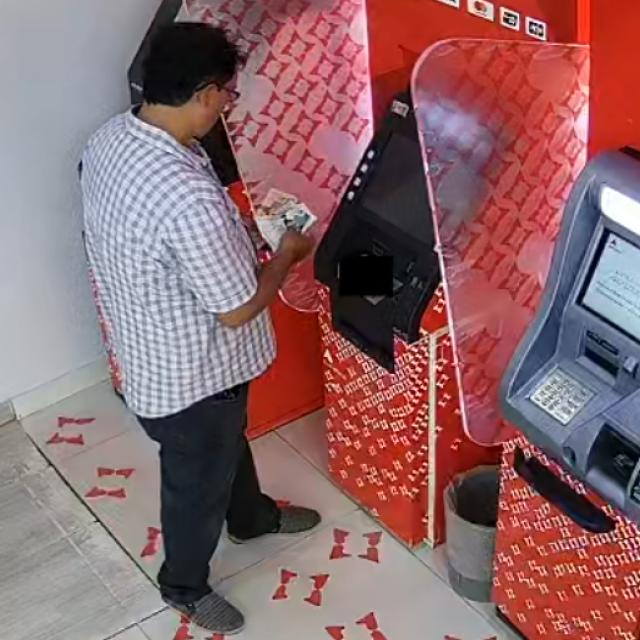note: (249, 180, 326, 256)
